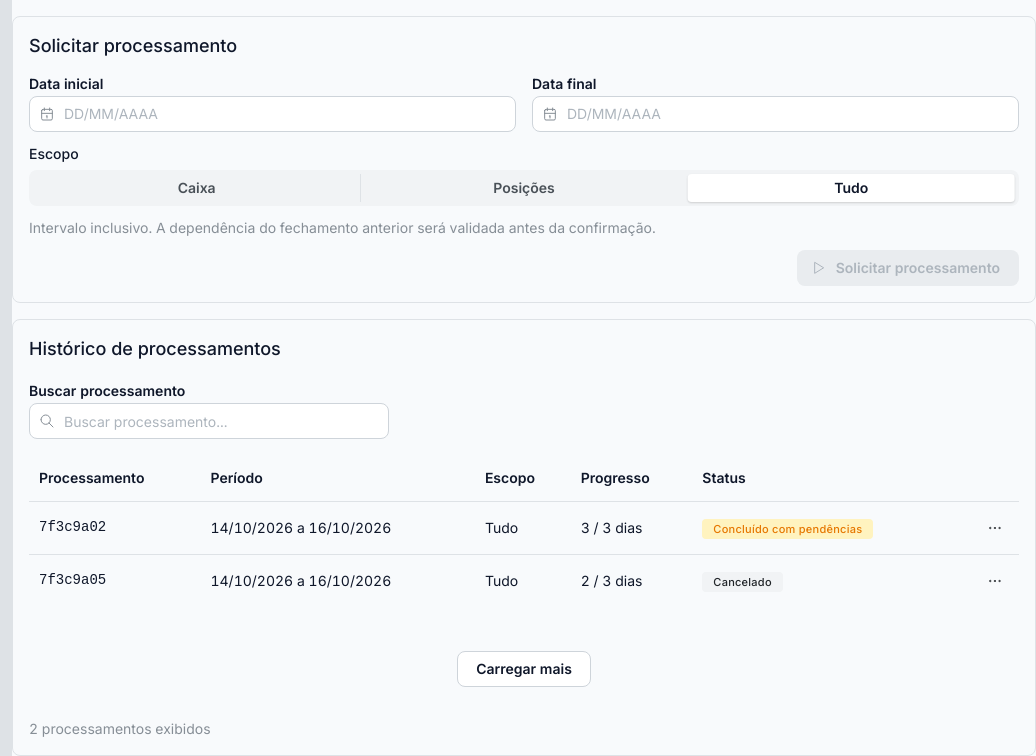
Processamentos: history (§11.1, §10.3) › P21 reads the history page by page: "Carregar mais" asks for the next cursor
(page scrolled)
Check: the text "2 processamentos exibidos" is shown, box left=29, top=720, right=210, bottom=737
What coordinates should you click on to do the following:
click the button "Carregar mais"
I would click on:
 (524, 669)
Its box is left=457, top=651, right=591, bottom=687.
(page scrolled)
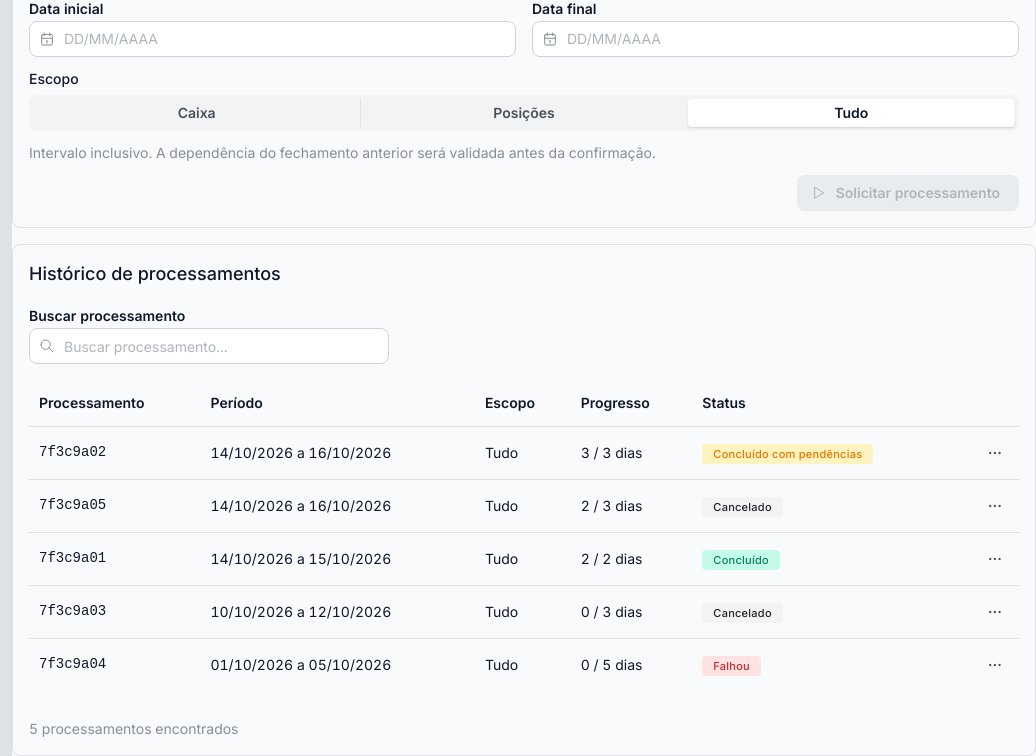
Check: the text "5 processamentos encontrados" is shown, box left=29, top=720, right=238, bottom=737
Check: the button "Carregar mais" is gone
